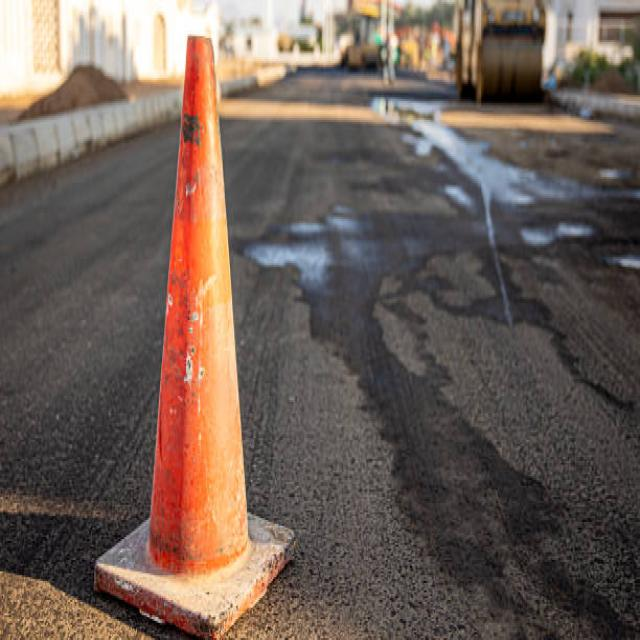Traffic Cone: (72, 15, 324, 640)
